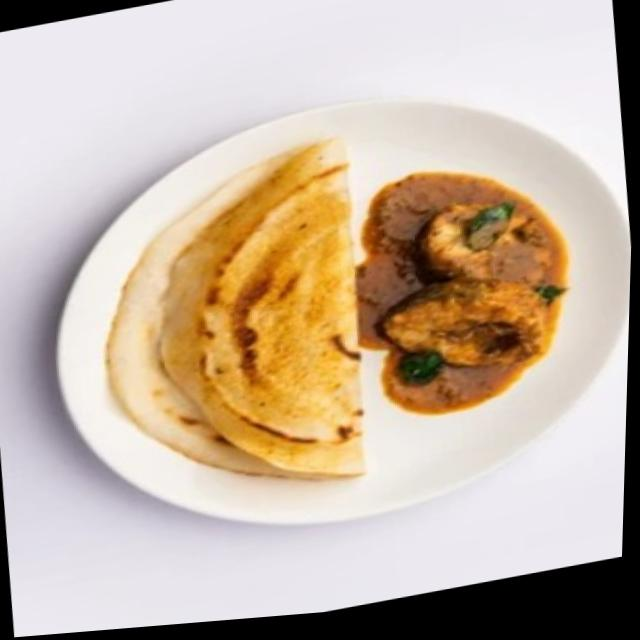DOSA: (109, 144, 363, 476)
FISH CURRY: (361, 171, 568, 414)
